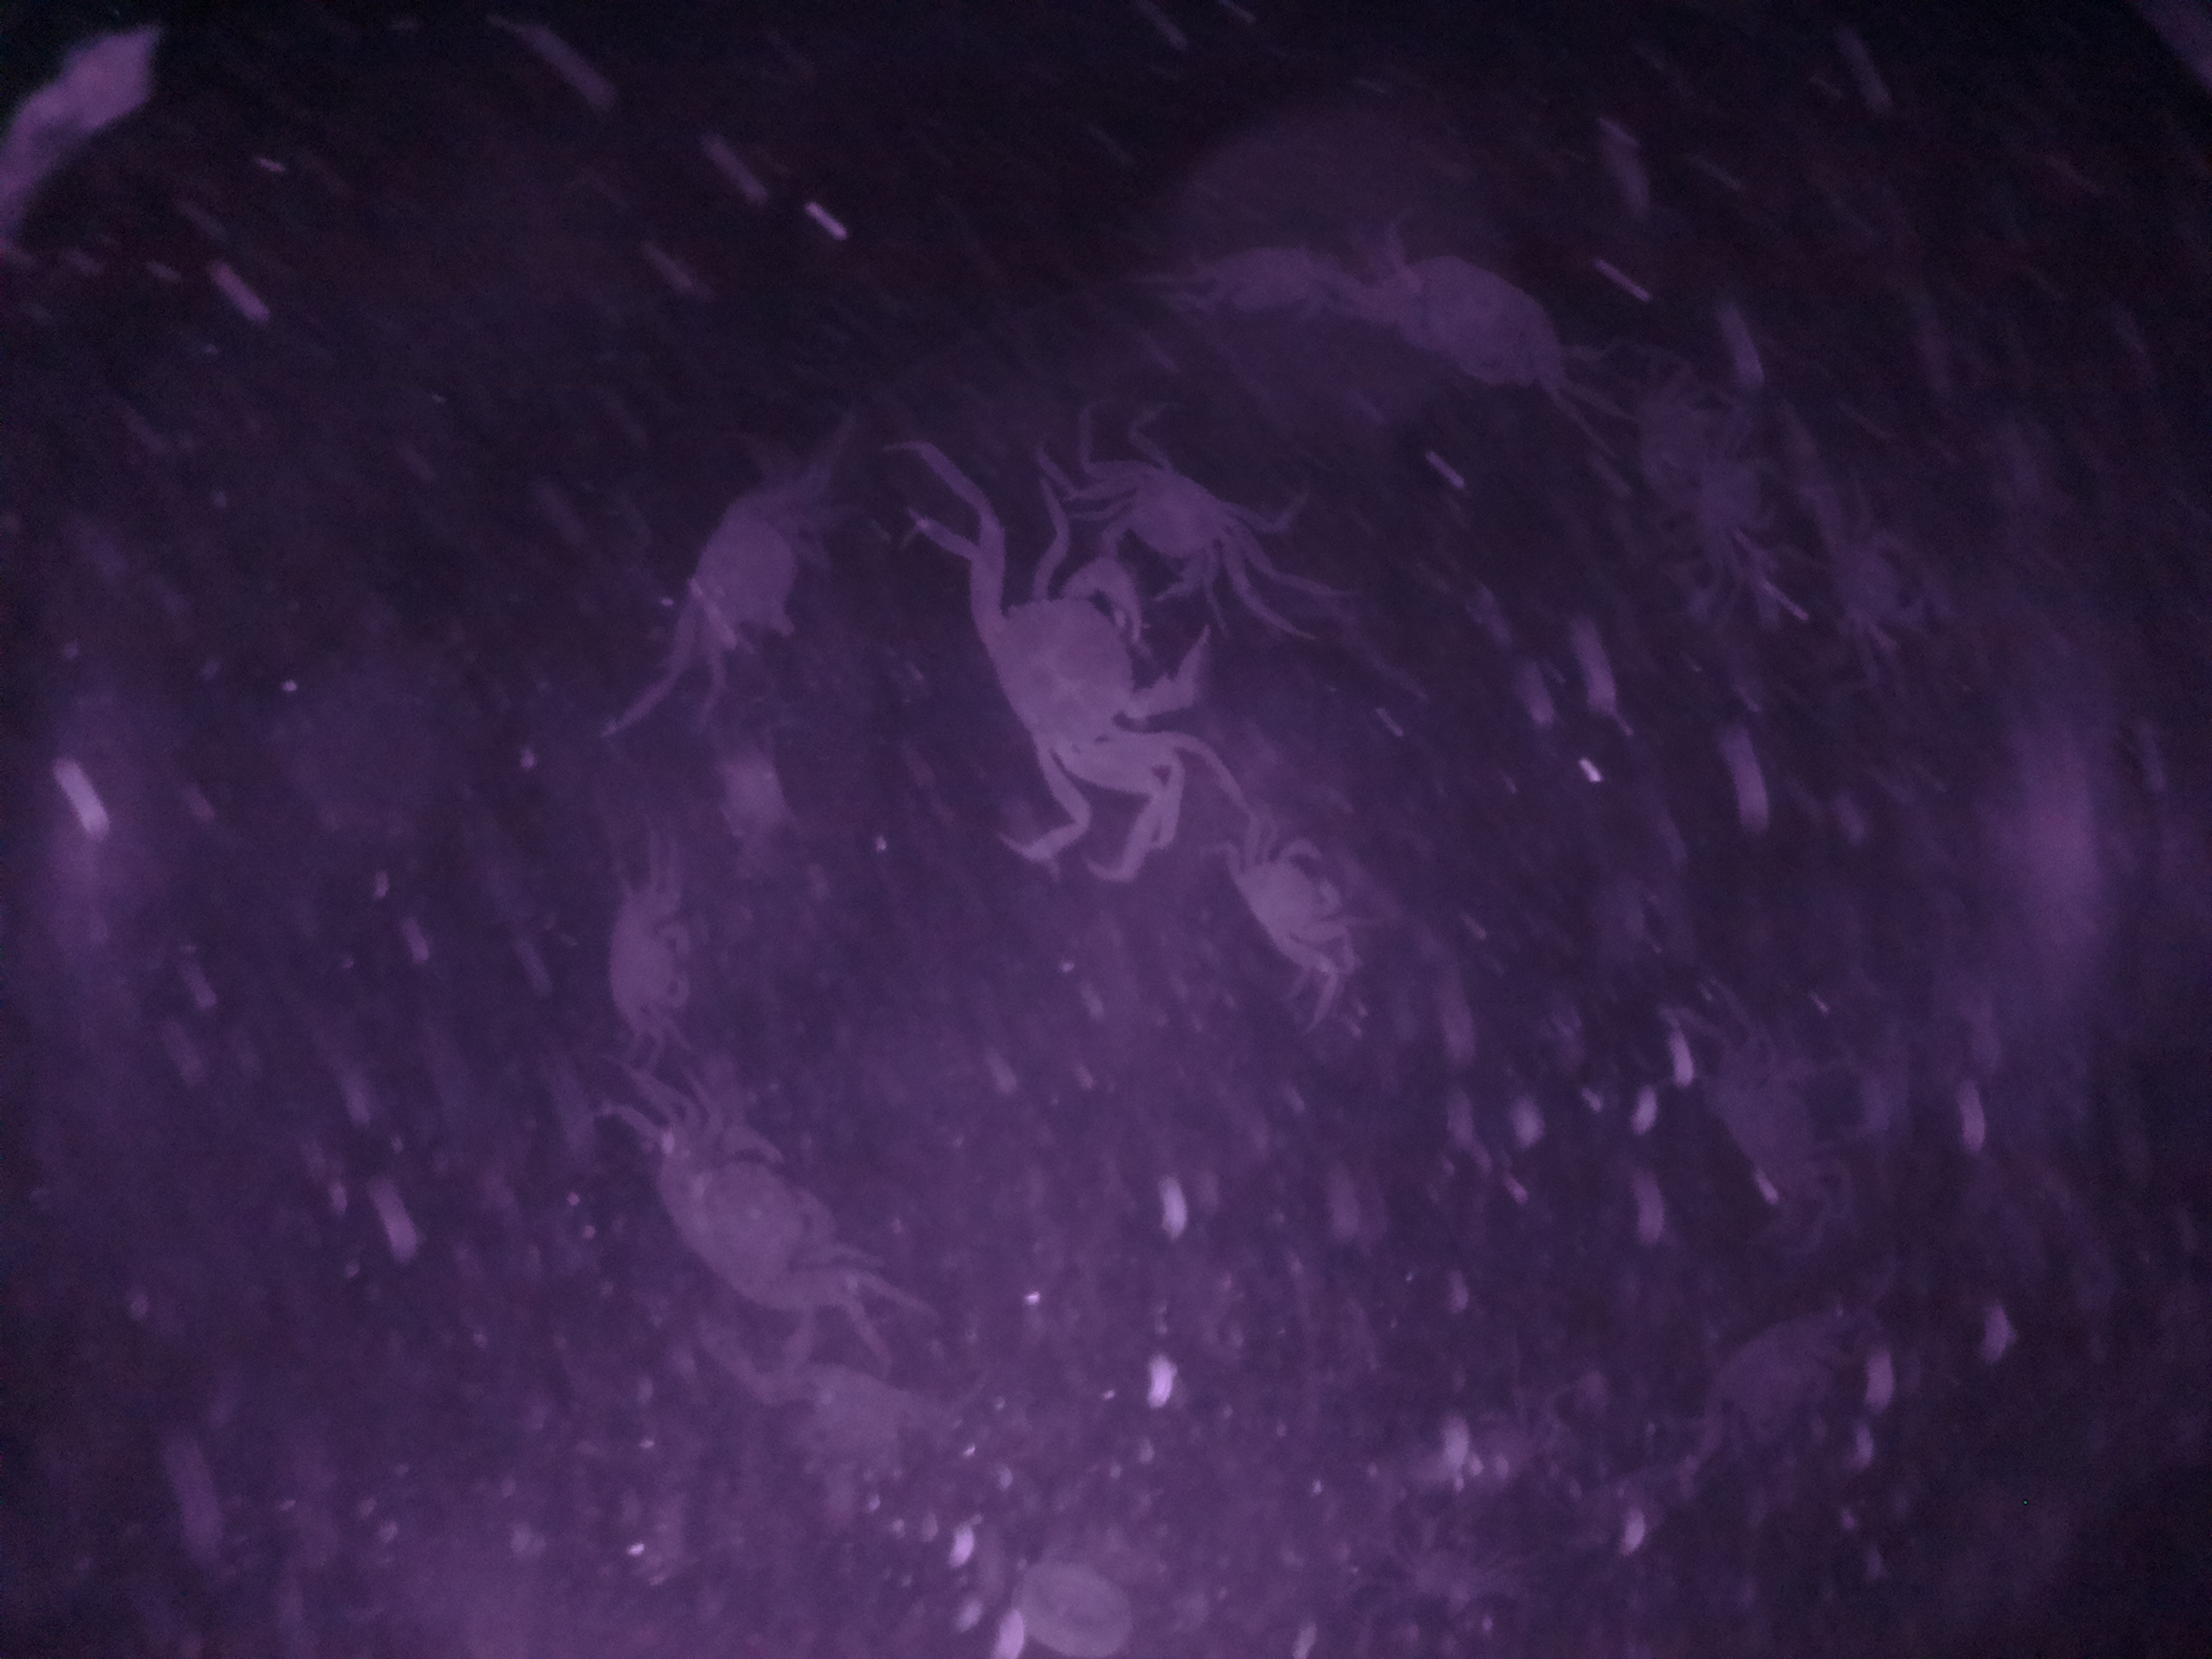Crab: (958, 554, 1223, 819), (618, 1103, 862, 1344), (1073, 436, 1270, 599), (1217, 807, 1352, 988)
